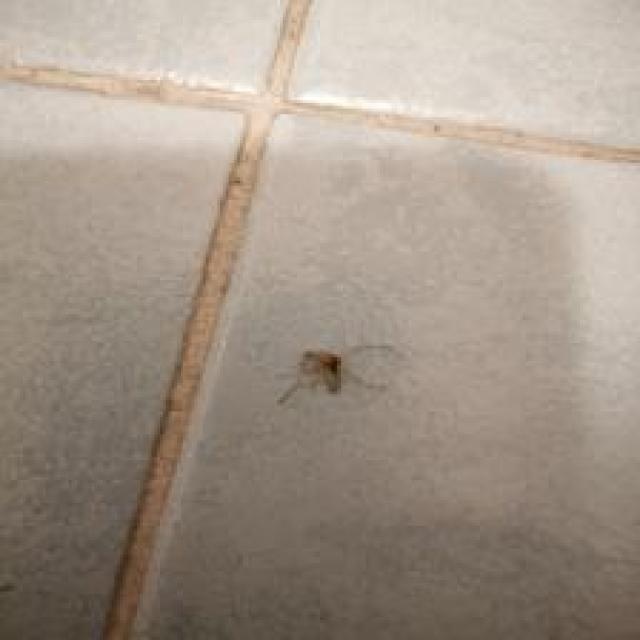Culex: (273, 342, 396, 407)
